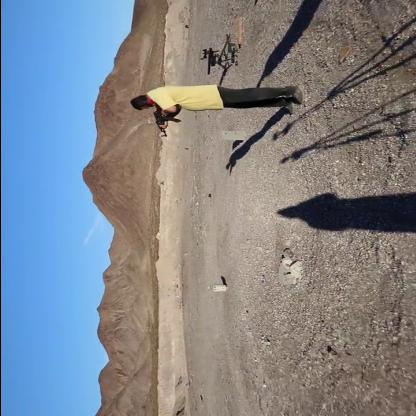long weapon: (143, 97, 185, 152), (193, 40, 228, 84)
